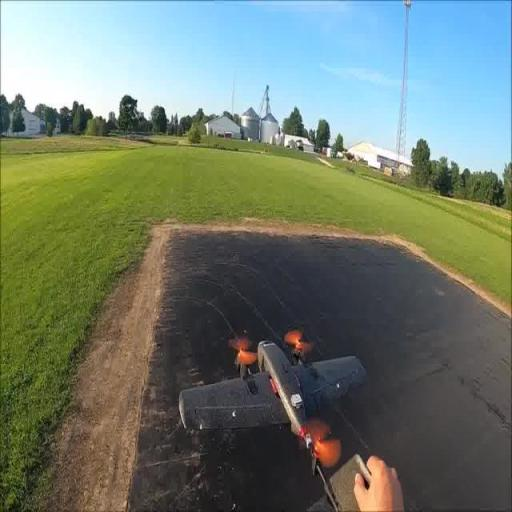uav: (174, 327, 364, 474)
